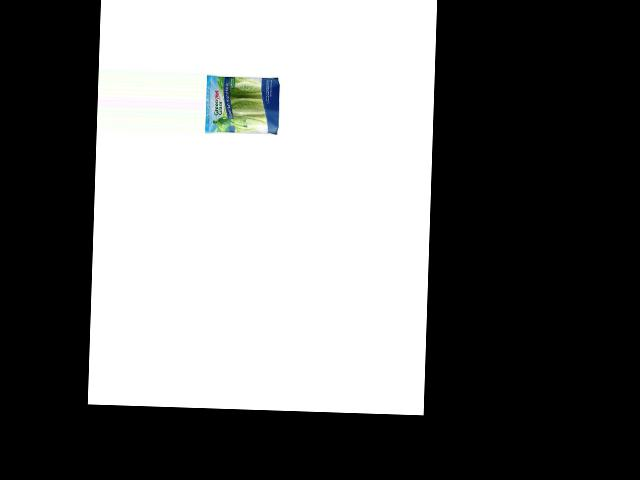lettuce: (208, 74, 283, 137)
